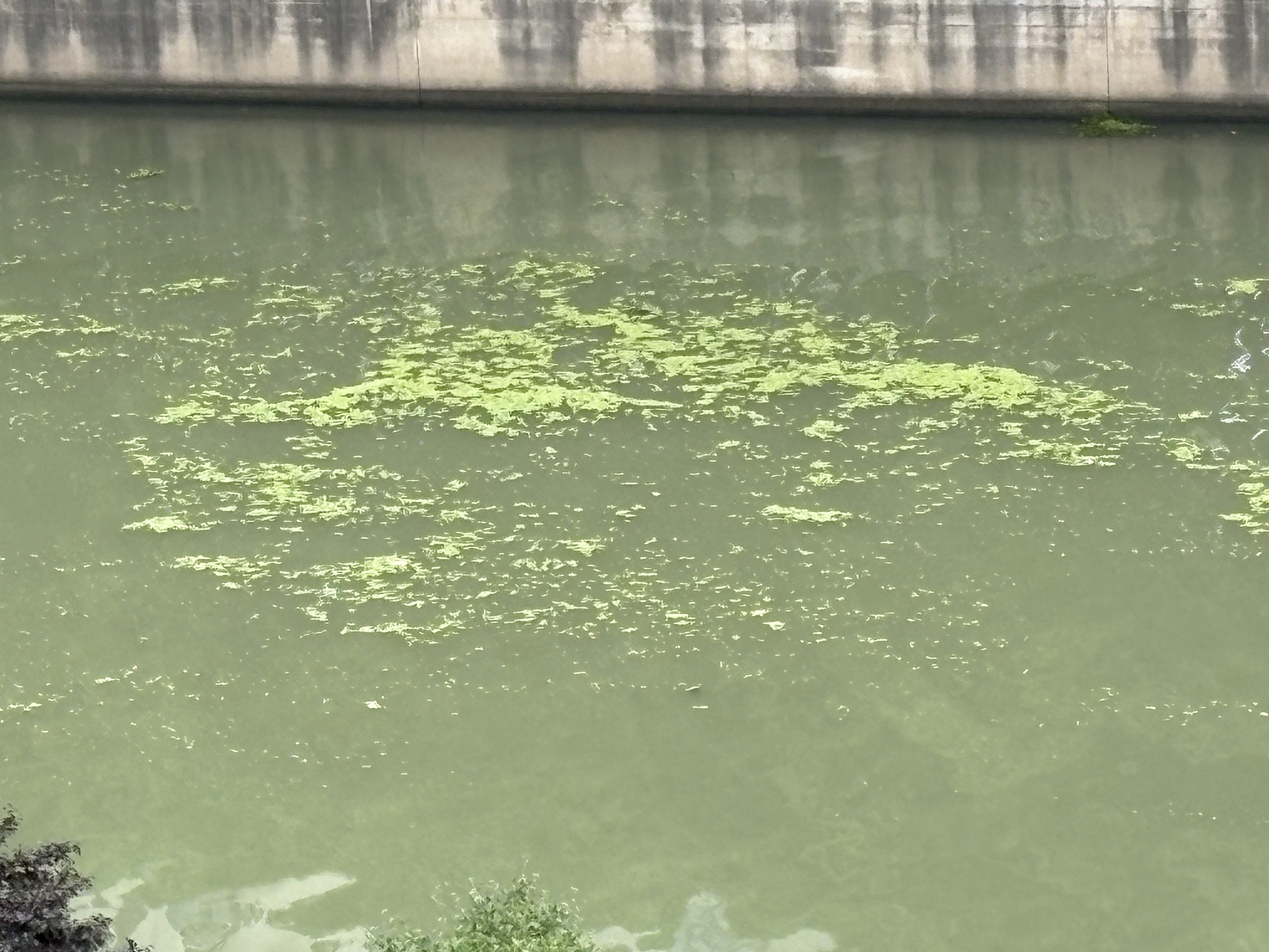Other: (254, 276, 1116, 443), (181, 538, 702, 636), (121, 438, 448, 522), (1164, 441, 1269, 537), (753, 492, 871, 535), (1188, 280, 1260, 323)
